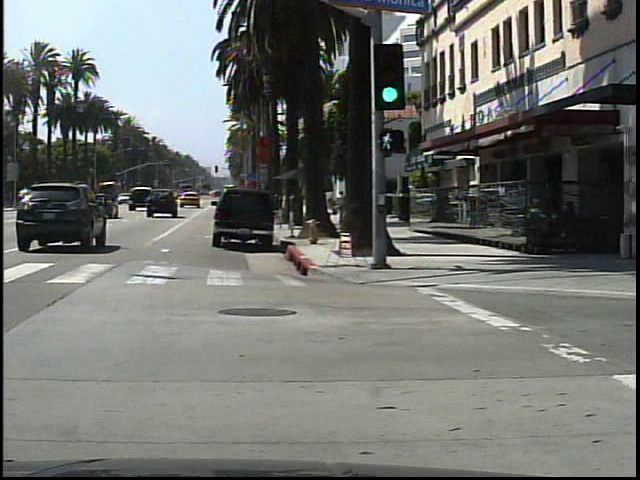person: (335, 184, 349, 226)
